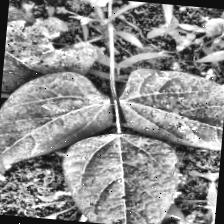ALS: (60, 137, 188, 224), (122, 63, 224, 148), (4, 14, 96, 76)
